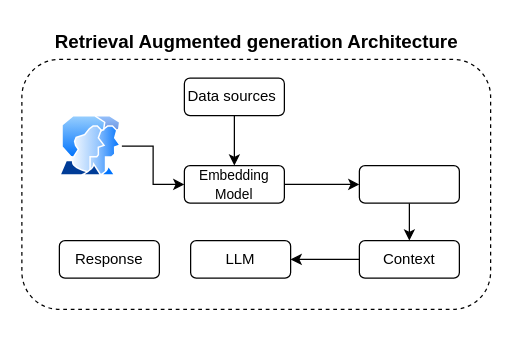
The diagram is 513 pixels wide and 341 high, and some of its shapes have lost their labels. The centre of each missing label's shape, as x and y in pixels:
Query: (90,145)
Vector Storage: (408,183)
